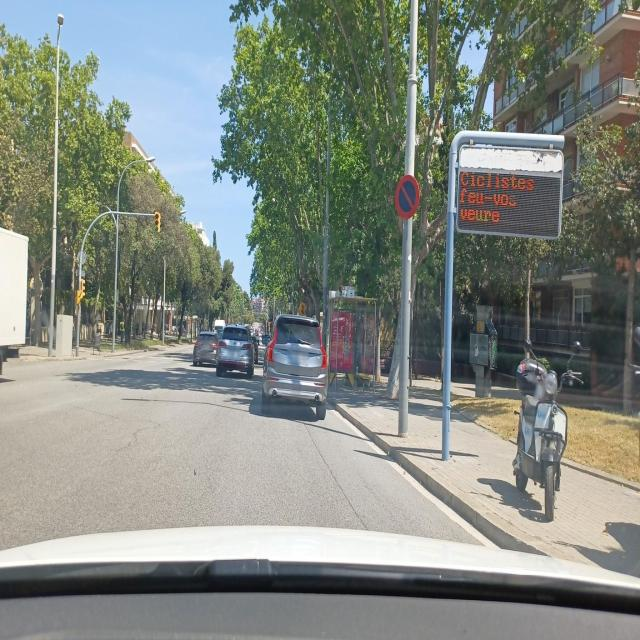car: (262, 312, 328, 420), (215, 322, 255, 378), (192, 330, 219, 367)
